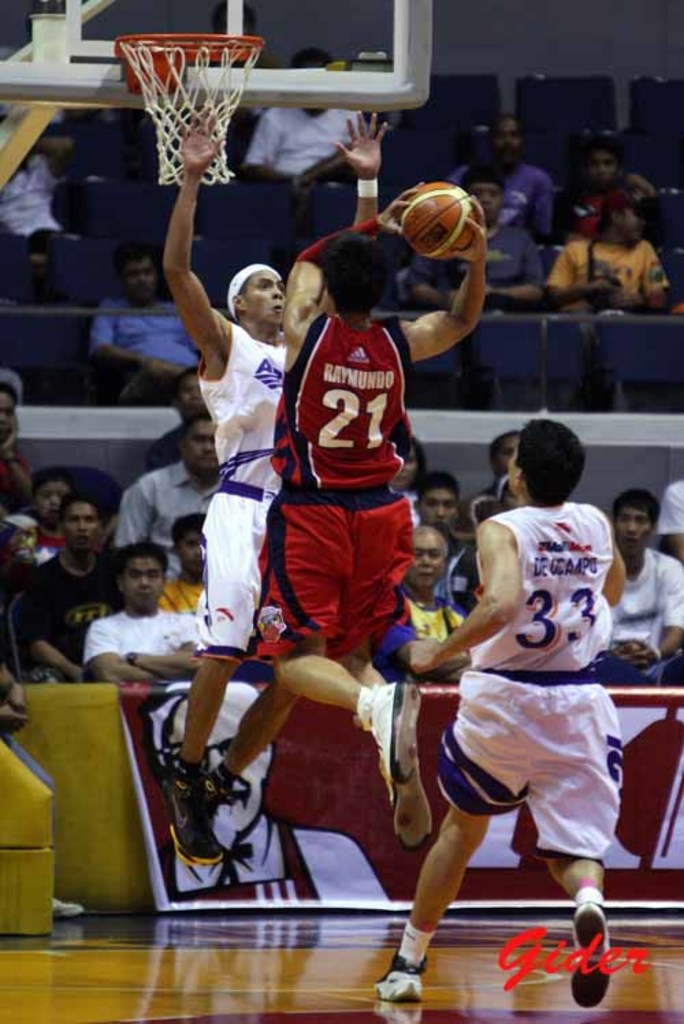Ball: (395, 183, 475, 265)
